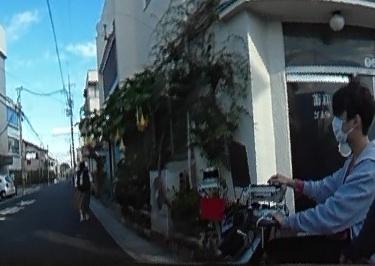person: (277, 80, 375, 257), (75, 160, 93, 218)
